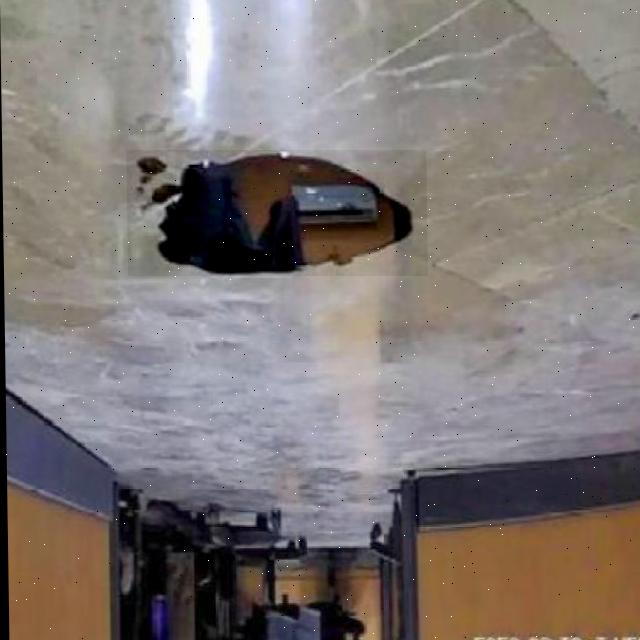spillage: (127, 150, 426, 276)
